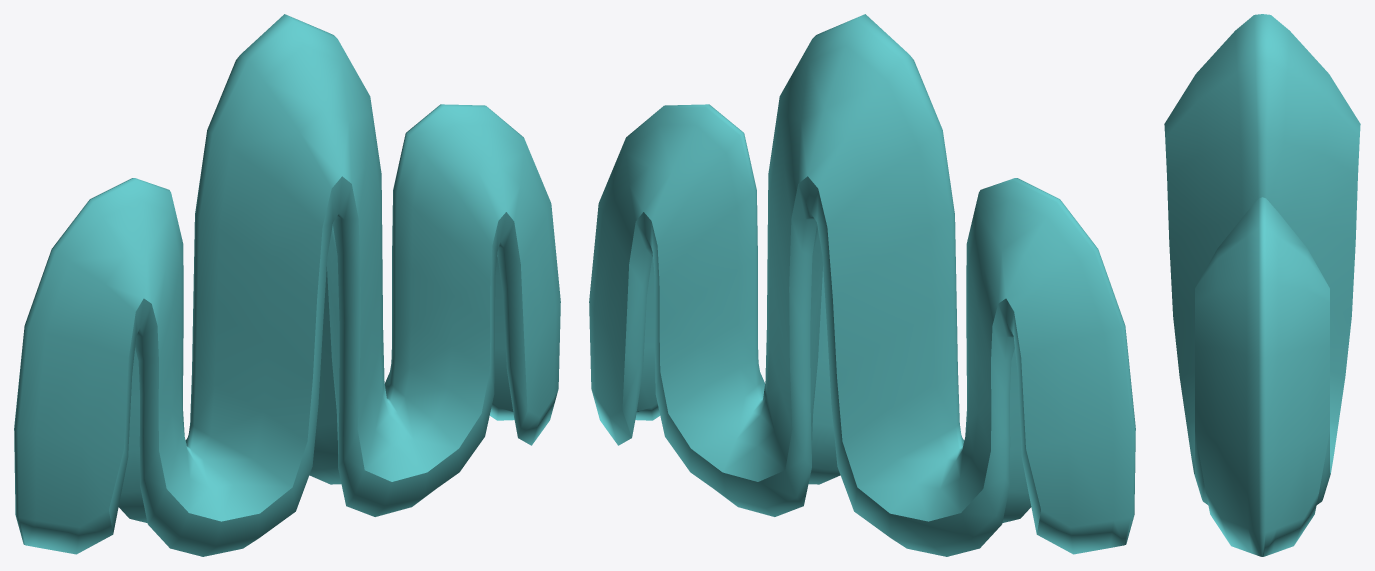
File: Bush-tX1aT9IB1P.glb
3 views of the same model, side by side, from view 1: azimuth 30°, elevation 25°; view 2: azimuth 150°, elevation 25°; view 3: azimuth 270°, elevation 25° (orthographic). The views are drawn at different scales.
Visible parts, largest first — view 1: Bush_2; view 2: Bush_2; view 3: Bush_2.
Part boxes in pixels (x1,y1,x2,y2): Bush_2: (14,14,560,556); Bush_2: (589,14,1135,556); Bush_2: (1164,14,1360,556).
Bounding box in the file's own units: 1.82 × 1.6 × 0.6207.
Materials: 1 (1 with a texture image).
